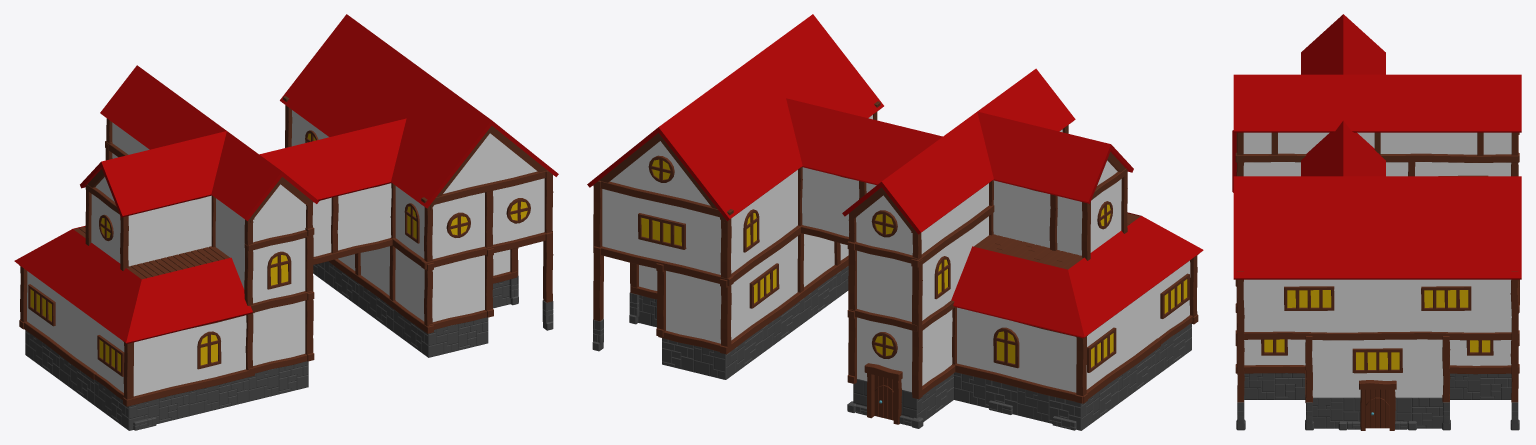
The model's file is House_Full_2.fbx.
3 renders of one model, left to right at view 1: azimuth 30°, elevation 25°; view 2: azimuth 150°, elevation 25°; view 3: azimuth 270°, elevation 25°, orthographic. The views are drawn at different scales.
Visible parts, largest first — view 1: Roof_Full, Wall_small_origin49, Wall_Large, Beams_Full, Stone_Wall_LOD0, Wood_Floor_LOD0, Window_Large6, Window_Large3, Frame_9, Frame_3; view 2: Roof_Full, Wall_Large, Wall_small_origin49, Beams_Full, Stone_Wall_LOD0, Wood_Floor_LOD0, Window_Large1, Doorway, Doorway_Wall, Window_Large7, Window_Large3, Window_Large6 (+2 smaller); view 3: Roof_Full, Wall_Large, Wall_small_origin49, Beams_Full, Stone_Wall_LOD0, Window_Large, Window_Large4, Window_Large2, Doorway_Wall1, Wood_Door_LOD0, Doorway1, Stone__Doorway_2 (+1 smaller).
Part boxes in pixels (left/top/right/bottom): Roof_Full: left=14, top=14, right=558, bottom=343; Wall_small_origin49: left=91, top=122, right=518, bottom=392; Wall_Large: left=27, top=110, right=544, bottom=396; Beams_Full: left=19, top=96, right=553, bottom=406; Stone_Wall_LOD0: left=25, top=261, right=510, bottom=430; Wood_Floor_LOD0: left=74, top=226, right=229, bottom=279; Window_Large6: left=28, top=284, right=55, bottom=326; Window_Large3: left=97, top=335, right=124, bottom=376; Frame_9: left=267, top=251, right=291, bottom=289; Frame_3: left=197, top=331, right=221, bottom=369; Roof_Full: left=587, top=14, right=1203, bottom=338; Wall_Large: left=602, top=170, right=1154, bottom=392; Wall_small_origin49: left=630, top=115, right=1190, bottom=385; Beams_Full: left=593, top=101, right=1198, bottom=403; Stone_Wall_LOD0: left=638, top=266, right=1191, bottom=430; Wood_Floor_LOD0: left=974, top=213, right=1140, bottom=269; Window_Large1: left=638, top=213, right=686, bottom=249; Doorway: left=864, top=363, right=902, bottom=424; Doorway_Wall: left=857, top=345, right=912, bottom=391; Window_Large7: left=749, top=263, right=779, bottom=308; Window_Large3: left=1160, top=273, right=1189, bottom=318; Window_Large6: left=1087, top=327, right=1116, bottom=372; Roof_Full: left=1232, top=14, right=1521, bottom=280; Wall_Large: left=1243, top=162, right=1511, bottom=332; Wall_small_origin49: left=1243, top=132, right=1511, bottom=397; Beams_Full: left=1235, top=132, right=1519, bottom=402; Stone_Wall_LOD0: left=1244, top=373, right=1511, bottom=428; Window_Large: left=1352, top=348, right=1402, bottom=373; Window_Large4: left=1421, top=286, right=1471, bottom=310; Window_Large2: left=1284, top=286, right=1334, bottom=310; Doorway_Wall1: left=1343, top=366, right=1411, bottom=397; Wood_Door_LOD0: left=1365, top=389, right=1389, bottom=428; Doorway1: left=1359, top=380, right=1396, bottom=430; Stone__Doorway_2: left=1343, top=397, right=1360, bottom=422.
Size of what is drawn, in the model's own units: 0.1448 by 0.0721 by 0.0844.
